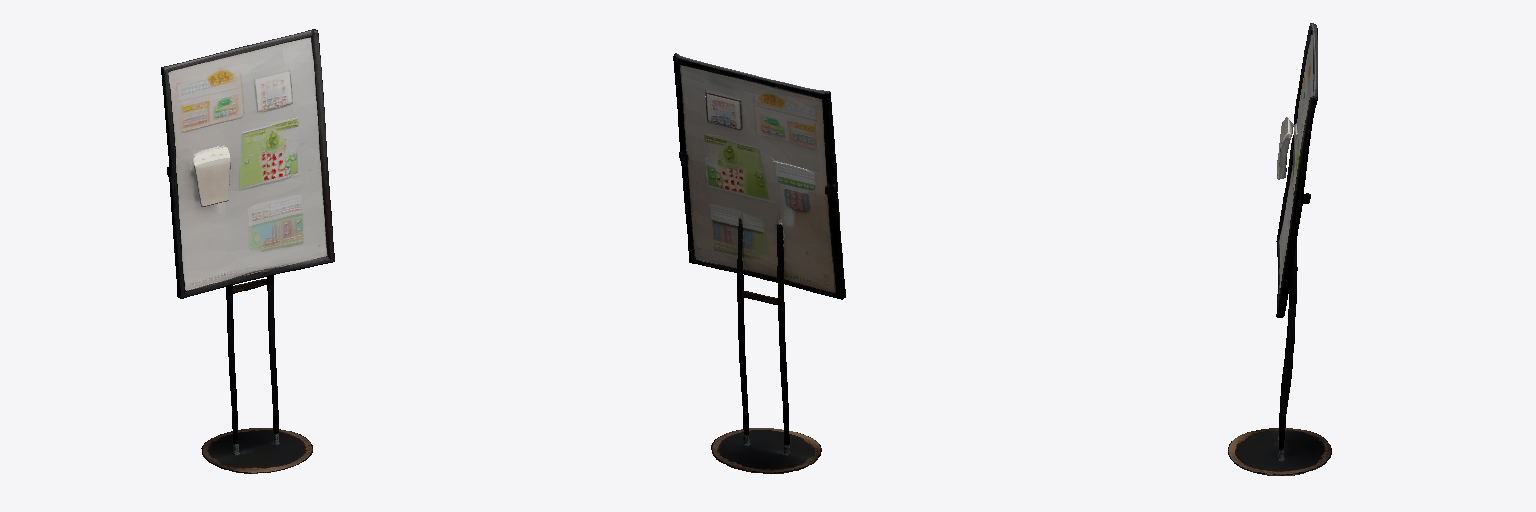
The picture shows the model from 3 angles: view 1: azimuth 30°, elevation 25°; view 2: azimuth 150°, elevation 25°; view 3: azimuth 270°, elevation 25°; orthographic projection.
Visible parts, largest first — view 1: geometry_0; view 2: geometry_0; view 3: geometry_0.
Boxes of the visible parts, x1,y1,x2,y2 form: geometry_0: [161, 29, 334, 473]; geometry_0: [673, 53, 845, 473]; geometry_0: [1228, 23, 1331, 475].
Bounding box in the file's own units: 0.4158 × 1 × 0.2421.
Materials: 1 (1 with a texture image).